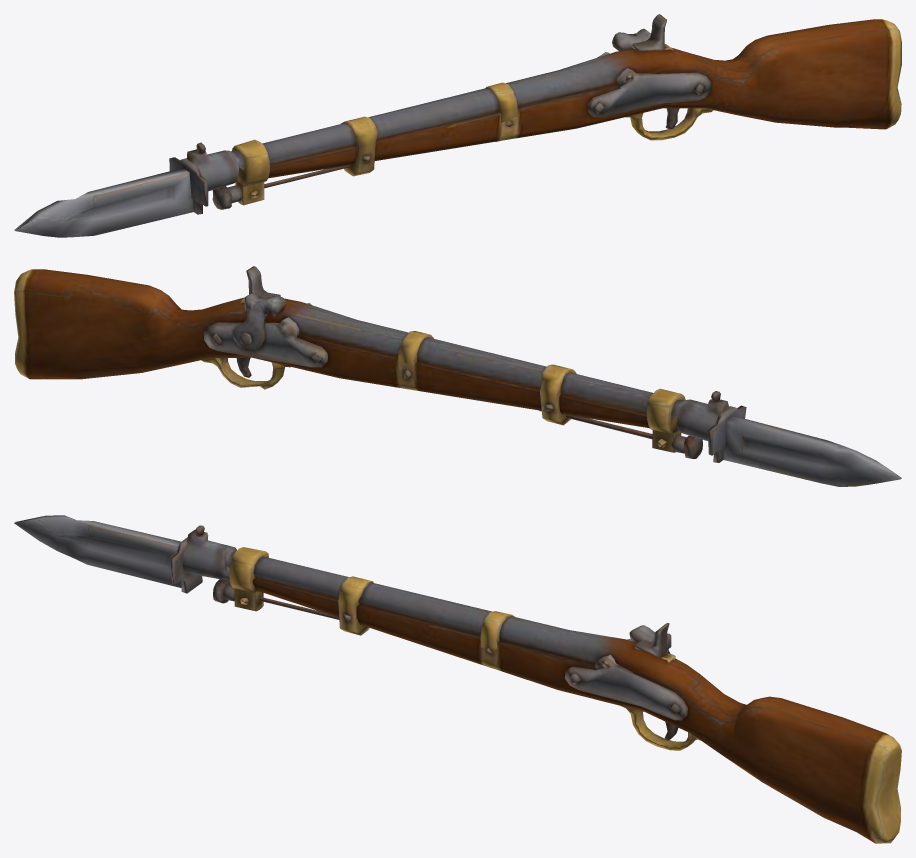
The model's file is musket.glb.
3 views of the same model, one above another, from view 1: azimuth 30°, elevation 25°; view 2: azimuth 150°, elevation 25°; view 3: azimuth 330°, elevation 25° (orthographic).
Visible parts, largest first — view 1: geometry_0; view 2: geometry_0; view 3: geometry_0.
Boxes of the visible parts, box(x1,y1,x2,y2) form: geometry_0: box(14, 14, 901, 237); geometry_0: box(14, 266, 901, 486); geometry_0: box(14, 515, 901, 843).
Size of the model in its own units: 0.957 by 0.1694 by 0.0659.
1 material, 1 textured.
